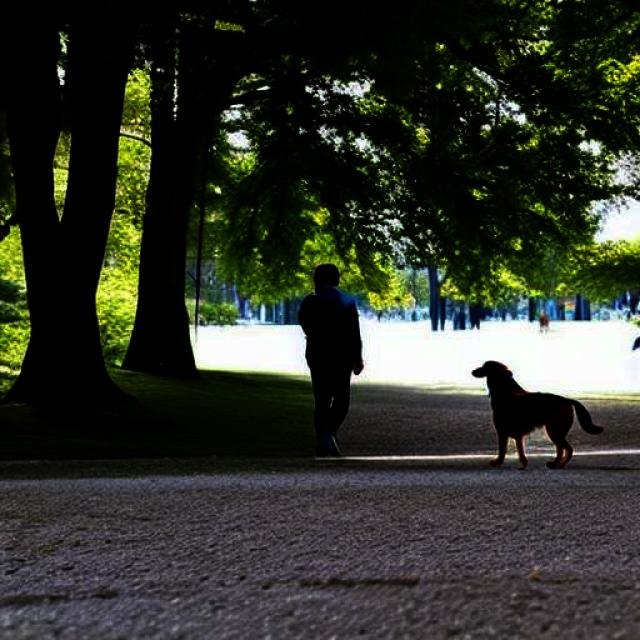Unleashed_Dog: (307, 346, 604, 470)
